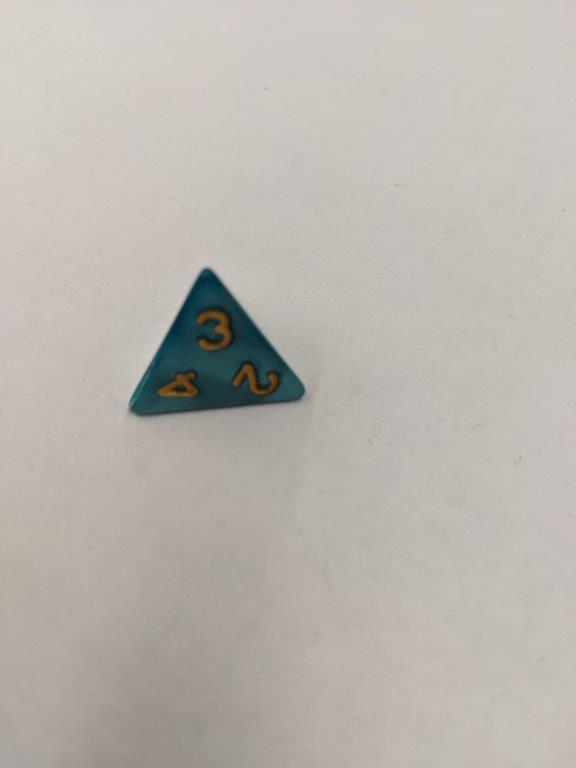d4-3: (127, 264, 310, 422)
